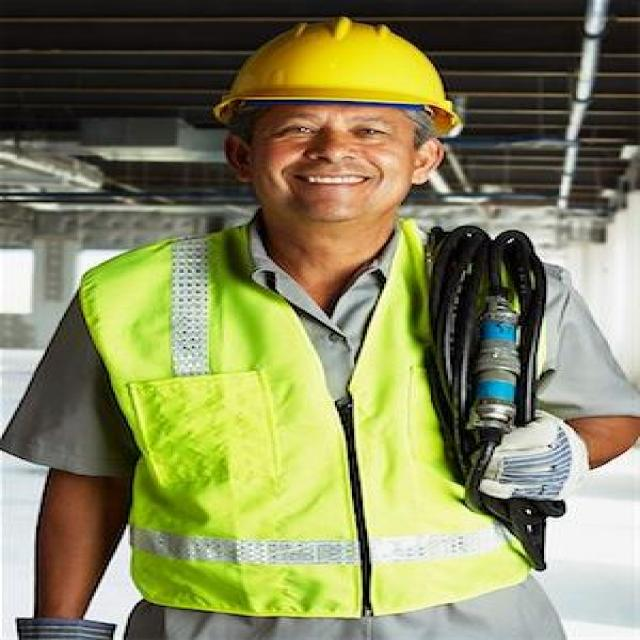Reflective-Jacket: (81, 214, 570, 628)
Safety-Helmet: (200, 16, 476, 132)
